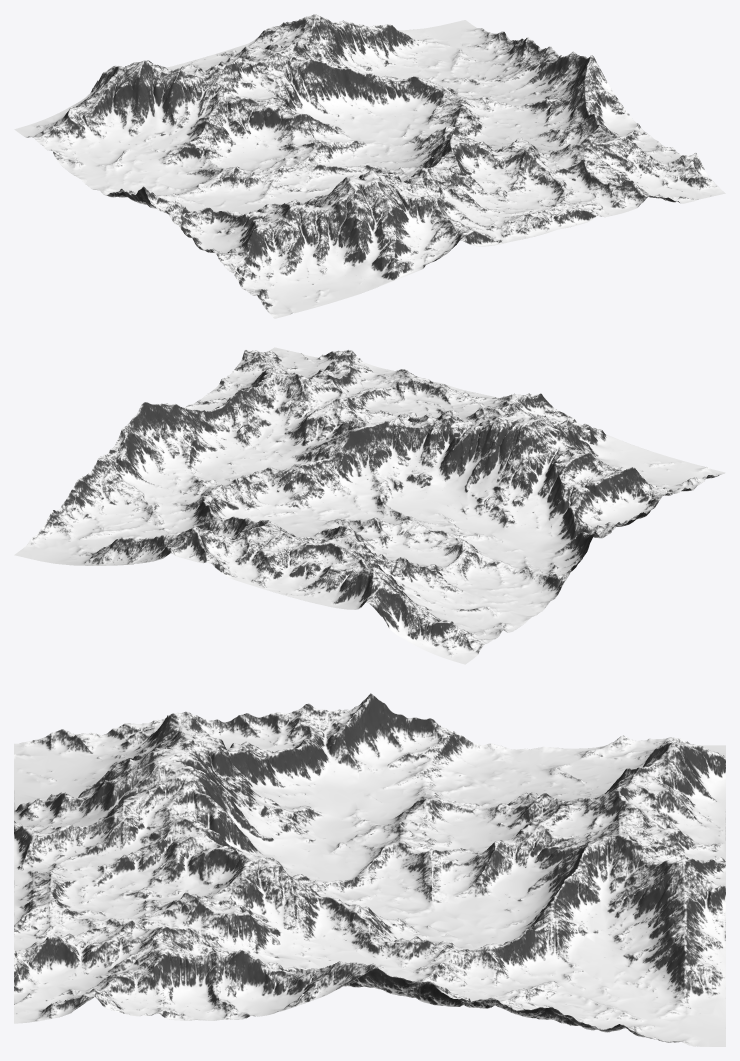
Rendered from snowy-mountain.glb.
3 views of the same model, one above another, from view 1: azimuth 30°, elevation 25°; view 2: azimuth 150°, elevation 25°; view 3: azimuth 270°, elevation 25° (orthographic). The views are drawn at different scales.
Visible parts, largest first — view 1: Object_2; view 2: Object_2; view 3: Object_2.
Boxes of the visible parts, x1,y1,x2,y2 form: Object_2: (14,14,725,318); Object_2: (14,347,725,664); Object_2: (14,693,725,1046).
Size of the model in its own units: 1 by 0.1432 by 1.
1 material, 1 textured.
